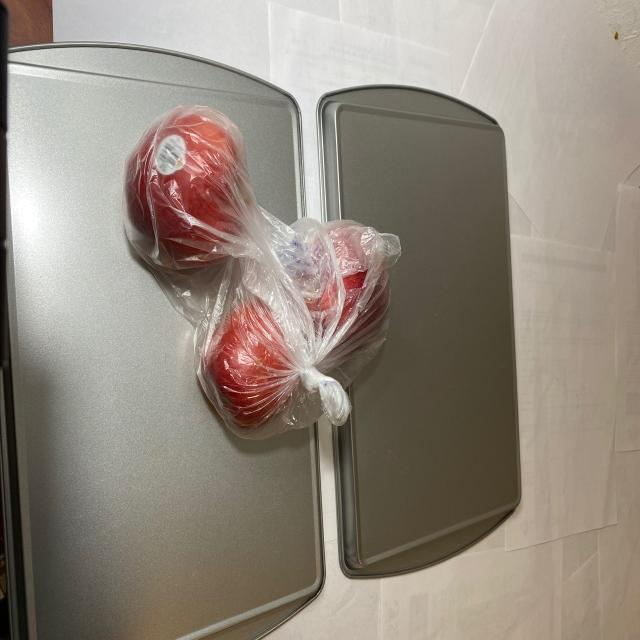apple: (124, 108, 390, 434)
